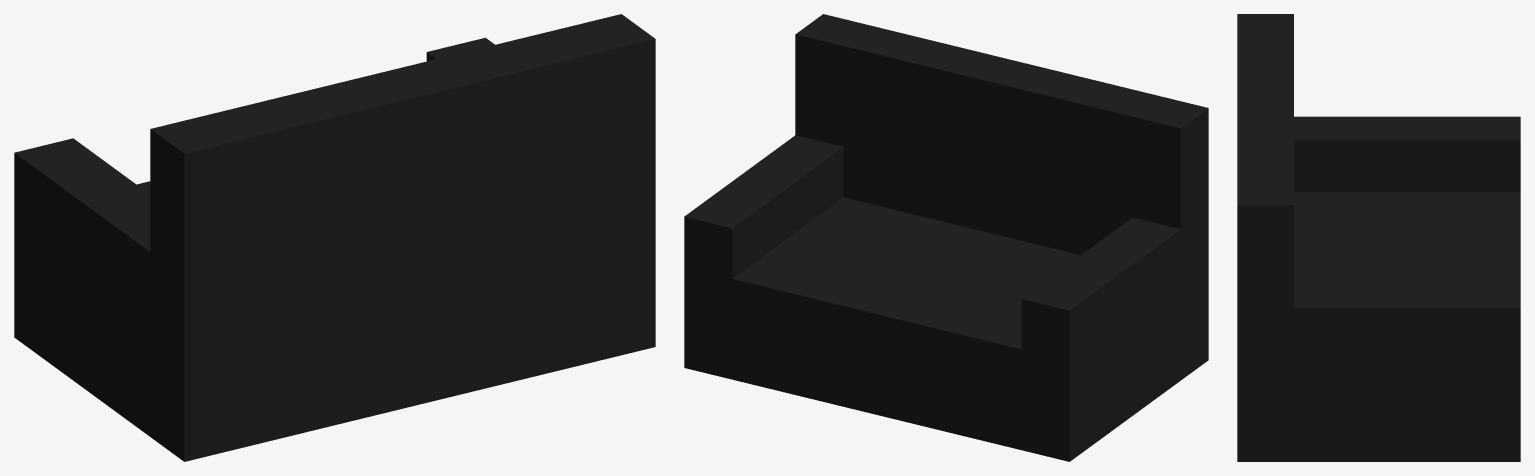
The model's file is Couch.obj.
The picture shows the model from 3 angles, left to right: view 1: azimuth 30°, elevation 25°; view 2: azimuth 150°, elevation 25°; view 3: azimuth 270°, elevation 25°; orthographic projection. The views are drawn at different scales.
Visible parts, largest first — view 1: cube; view 2: cube; view 3: cube.
Part boxes in pixels (left/top/right/bottom): cube: left=14, top=14, right=655, bottom=461; cube: left=684, top=14, right=1208, bottom=461; cube: left=1237, top=14, right=1520, bottom=461.
Size of the model in its own units: 1 by 0.625 by 0.625.
